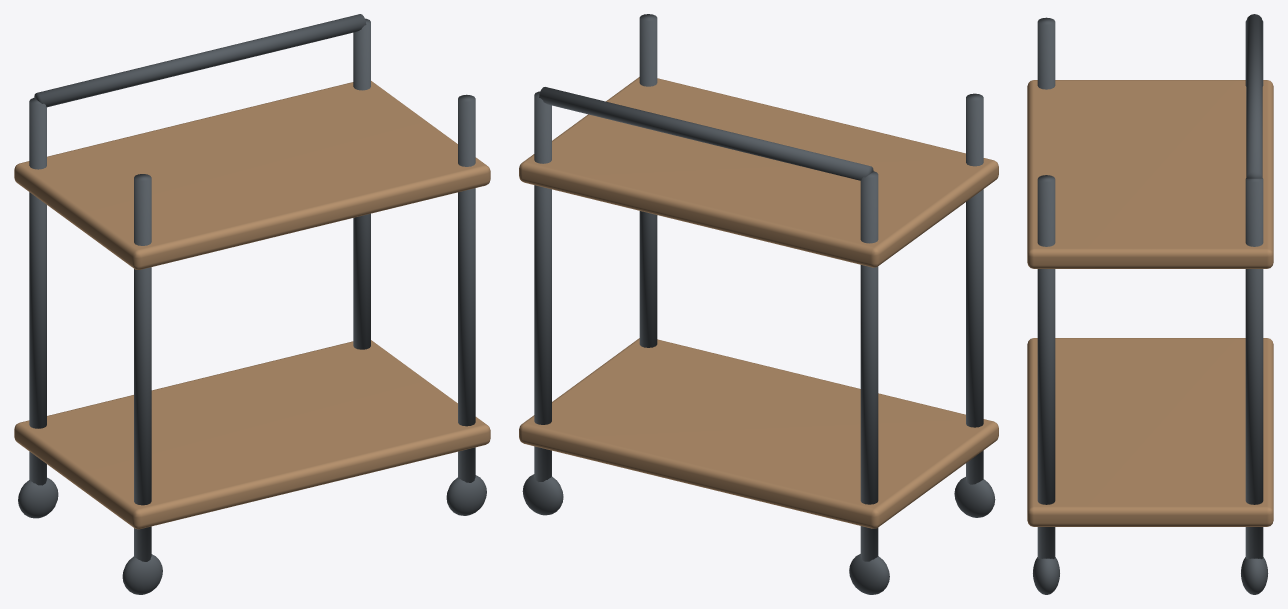
File: atelier-serving-trolley.glb
The picture shows the model from 3 angles, left to right: view 1: azimuth 30°, elevation 25°; view 2: azimuth 150°, elevation 25°; view 3: azimuth 270°, elevation 25°; orthographic projection.
Parts seen in each view (by area): view 1: legs.077, metal.024; view 2: legs.077, metal.024; view 3: legs.077, metal.024.
Boxes of the visible parts, <box> form: legs.077: <box>14,81,490,529</box>; metal.024: <box>18,14,486,594</box>; legs.077: <box>519,77,998,528</box>; metal.024: <box>522,14,995,594</box>; legs.077: <box>1027,80,1273,526</box>; metal.024: <box>1033,14,1268,594</box>.
Bounding box in the file's own units: 0.76 × 0.85 × 0.45.
